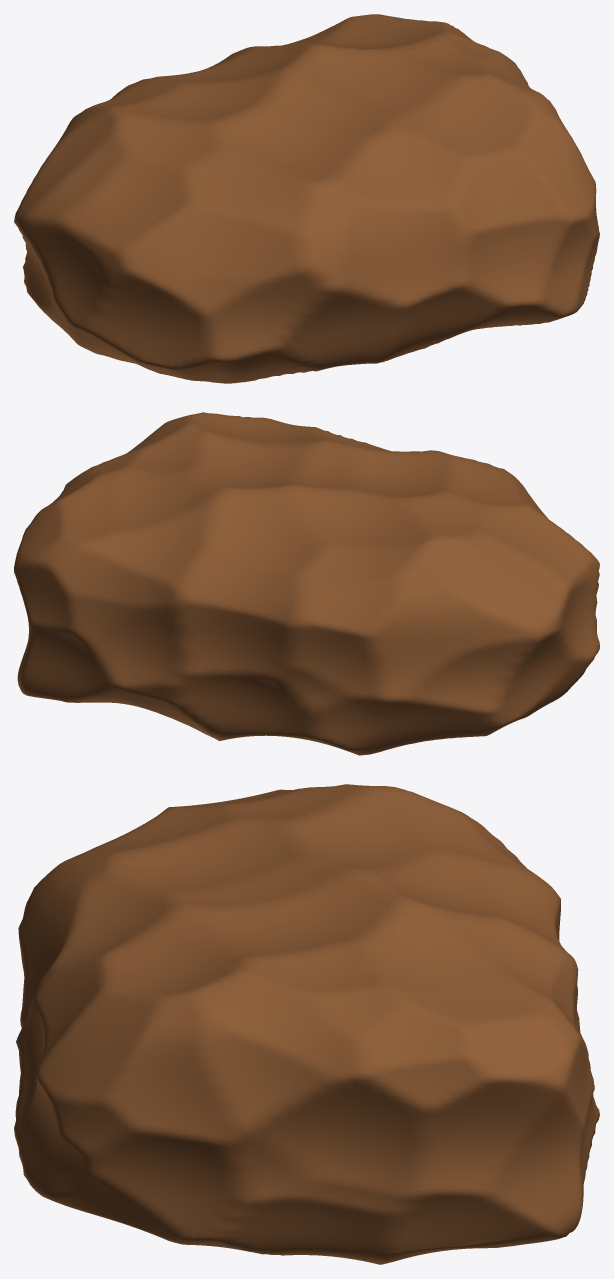
Rendered from platform big.fbx.
The picture shows the model from 3 angles, top to bottom: view 1: azimuth 30°, elevation 25°; view 2: azimuth 150°, elevation 25°; view 3: azimuth 270°, elevation 25°; orthographic projection. The views are drawn at different scales.
Parts seen in each view (by area): view 1: Cube.011; view 2: Cube.011; view 3: Cube.011.
Boxes of the visible parts, bbox=[...] form: Cube.011: bbox=[14, 14, 599, 383]; Cube.011: bbox=[14, 412, 599, 755]; Cube.011: bbox=[14, 784, 599, 1264].
Bounding box in the file's own units: 5939 × 2632 × 4841.
